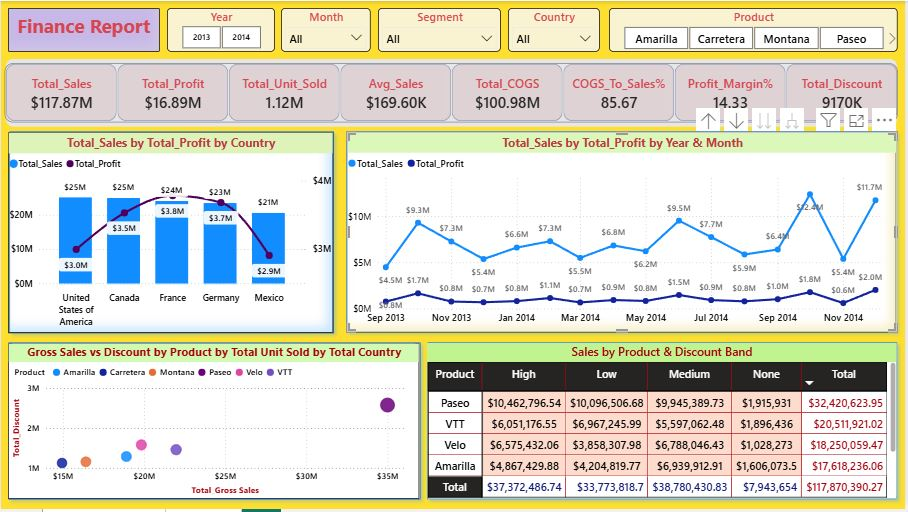

This screenshot's page, from the dashboard's own definition file:
{"tool":"powerbi","page":{"name":"Finance Report","canvas":[1280,720],"ordinal":0},"visuals":[{"type":"shape","box":[1.4,474.9,602.4,241],"z":0},{"type":"shape","box":[594.7,475.2,684,240.5],"z":1000},{"type":"shape","box":[2.9,175.7,478.1,303.8],"z":2000},{"type":"shape","box":[481,175.7,797.8,302.4],"z":3000},{"type":"textbox","box":[10.1,10.1,214.6,61.9],"z":4000},{"type":"slicer","title":"Year","fields":{"Values":["financial_data (2).Year"]},"box":[234.7,10.1,152.6,61.9],"z":5000},{"type":"slicer","title":"Month","fields":{"Values":["financial_data (2). Month Name "]},"box":[397.4,10.1,126.7,61.9],"z":6000},{"type":"slicer","title":"Product","fields":{"Values":["financial_data (2). Product "]},"box":[861.1,10.1,409,61.9],"z":7000},{"type":"cardVisual","fields":{"Data":["financial_data (2).Total_Sales","financial_data (2).Total_Profit","financial_data (2).Total_Unit_Sold","financial_data (2).Avg_Sales","financial_data (2).Total_COGS","financial_data (2).COGS_To_Sales%","financial_data (2).Profit_Margin%","financial_data (2).Total_Discount"]},"box":[0,74.9,1280,109.4],"z":8000},{"type":"slicer","title":"Segment","fields":{"Values":["financial_data (2).Segment"]},"box":[534.2,10.1,174.2,61.9],"z":9000},{"type":"slicer","title":"Country","fields":{"Values":["financial_data (2).Country"]},"box":[718.6,10.1,129.6,61.9],"z":10000},{"type":"lineStackedColumnComboChart","title":"Total_Sales by Total_Profit by Country","fields":{"Category":["financial_data (2).Country"],"Y":["financial_data (2).Total_Sales"],"Y2":["financial_data (2).Total_Profit"]},"box":[10.1,185.8,460.8,285.1],"z":11000},{"type":"lineChart","title":"Total_Sales by Total_Profit by Year & Month","fields":{"Y":["financial_data (2).Total_Sales","financial_data (2).Total_Profit"],"Category":["financial_data (2).Date.Variation.Date Hierarchy.Year","financial_data (2).Date.Variation.Date Hierarchy.Month"]},"box":[491,185.8,779,283.7],"z":12000},{"type":"scatterChart","title":"Gross Sales vs Discount by Product by Total Unit Sold by Total Country ","fields":{"X":["financial_data (2).Total_Gross Sales"],"Y":["financial_data (2).Total_Discount"],"Size":["financial_data (2).Total_Unit_Sold"],"Series":["financial_data (2). Product "]},"box":[9.9,484.8,583,221],"z":13000},{"type":"pivotTable","title":"Sales by Product & Discount Band","fields":{"Rows":["financial_data (2). Product "],"Columns":["financial_data (2). Discount Band "],"Values":["financial_data (2).Total_Sales"]},"box":[606.6,496.1,664.7,223.9],"z":14000}]}

Visuals, with their boxes in screenshot pixels (x1, y1, x2, y2), scaled from the page's 1280x720 canvas onto the 908x512 screenshot:
shape: (1, 338, 428, 509)
shape: (422, 338, 907, 509)
shape: (2, 125, 341, 341)
shape: (341, 125, 907, 340)
textbox: (7, 7, 159, 51)
"Year" slicer: (166, 7, 275, 51)
"Month" slicer: (282, 7, 372, 51)
"Product" slicer: (611, 7, 901, 51)
cardVisual - financial_data (2).Total_Sales x financial_data (2).Total_Profit: (0, 53, 907, 131)
"Segment" slicer: (379, 7, 503, 51)
"Country" slicer: (510, 7, 602, 51)
"Total_Sales by Total_Profit by Country" lineStackedColumnComboChart: (7, 132, 334, 335)
"Total_Sales by Total_Profit by Year & Month" lineChart: (348, 132, 901, 334)
"Gross Sales vs Discount by Product by Total Unit Sold by Total Country " scatterChart: (7, 345, 421, 502)
"Sales by Product & Discount Band" pivotTable: (430, 353, 902, 511)
